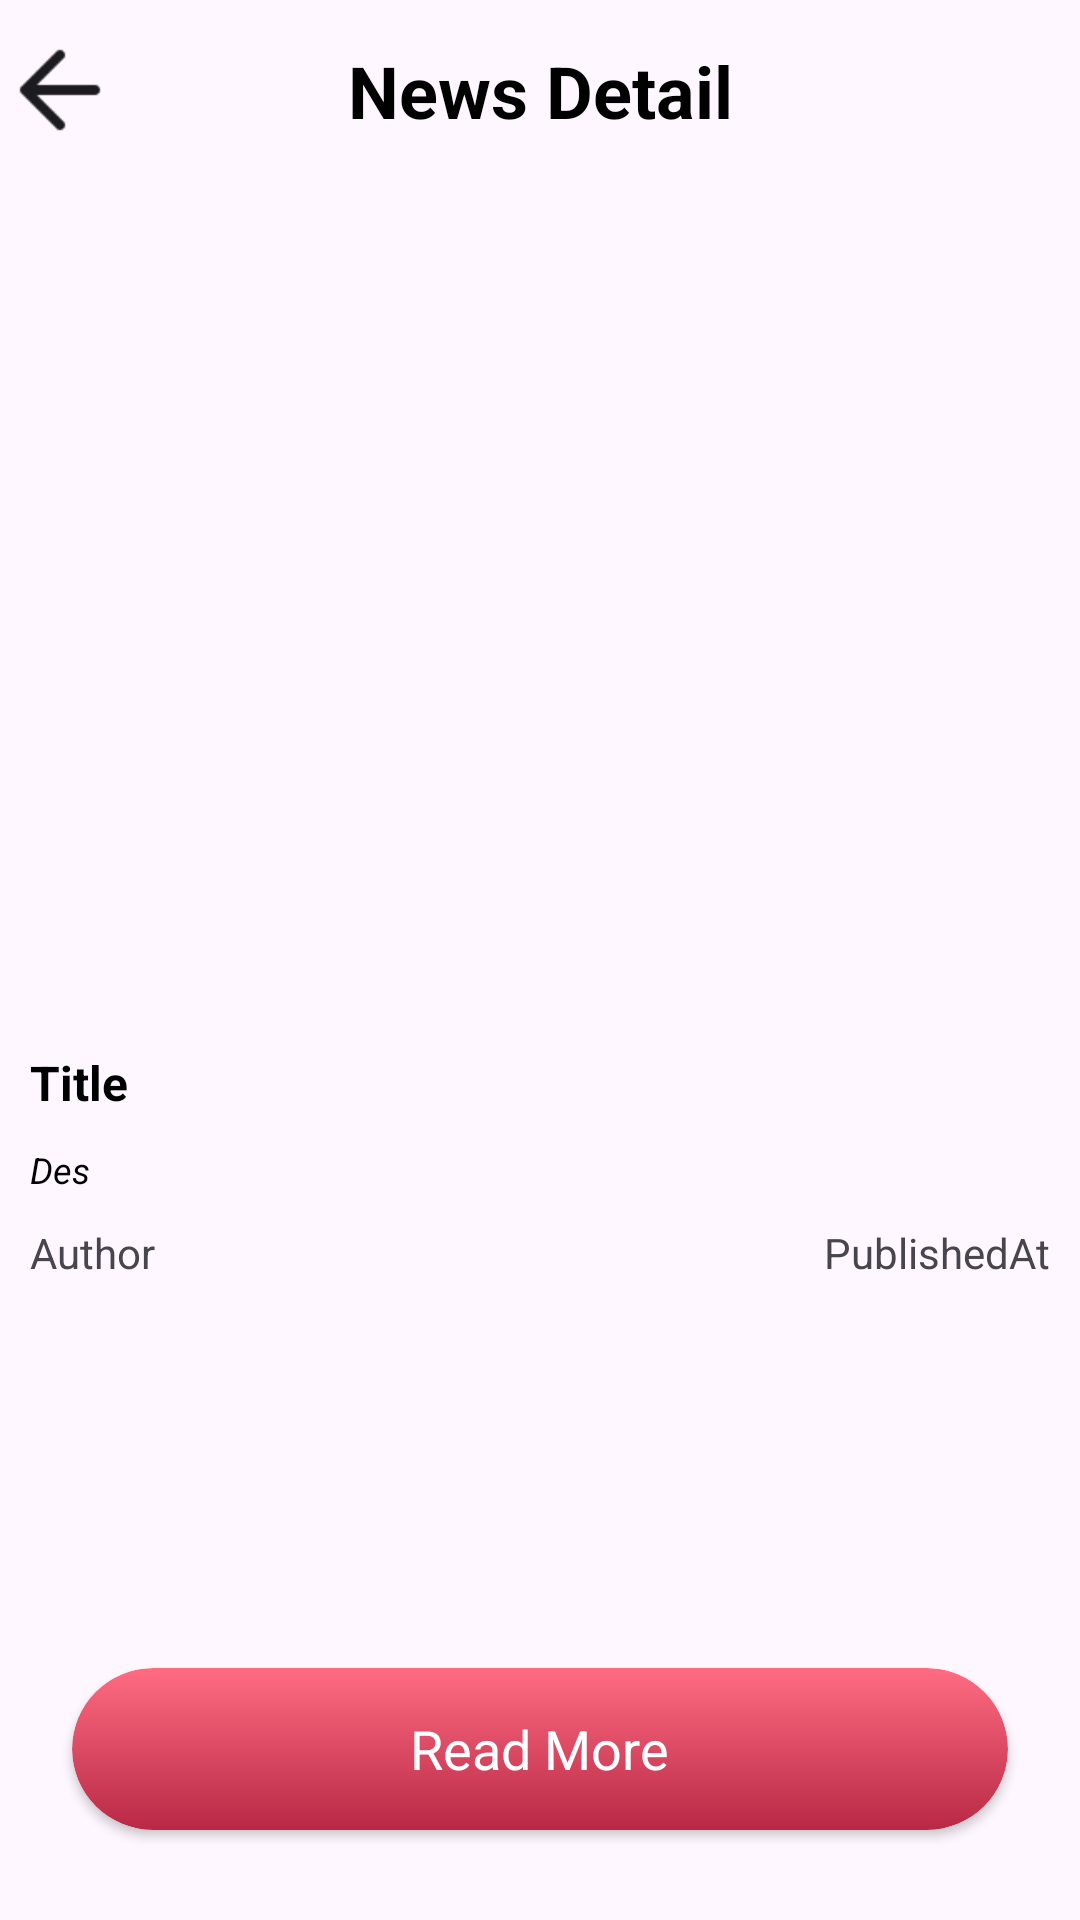

Icon click points for this 1080*1920 phone screenshot, format (x=x, y=y):
back create note: (x=60, y=90)
